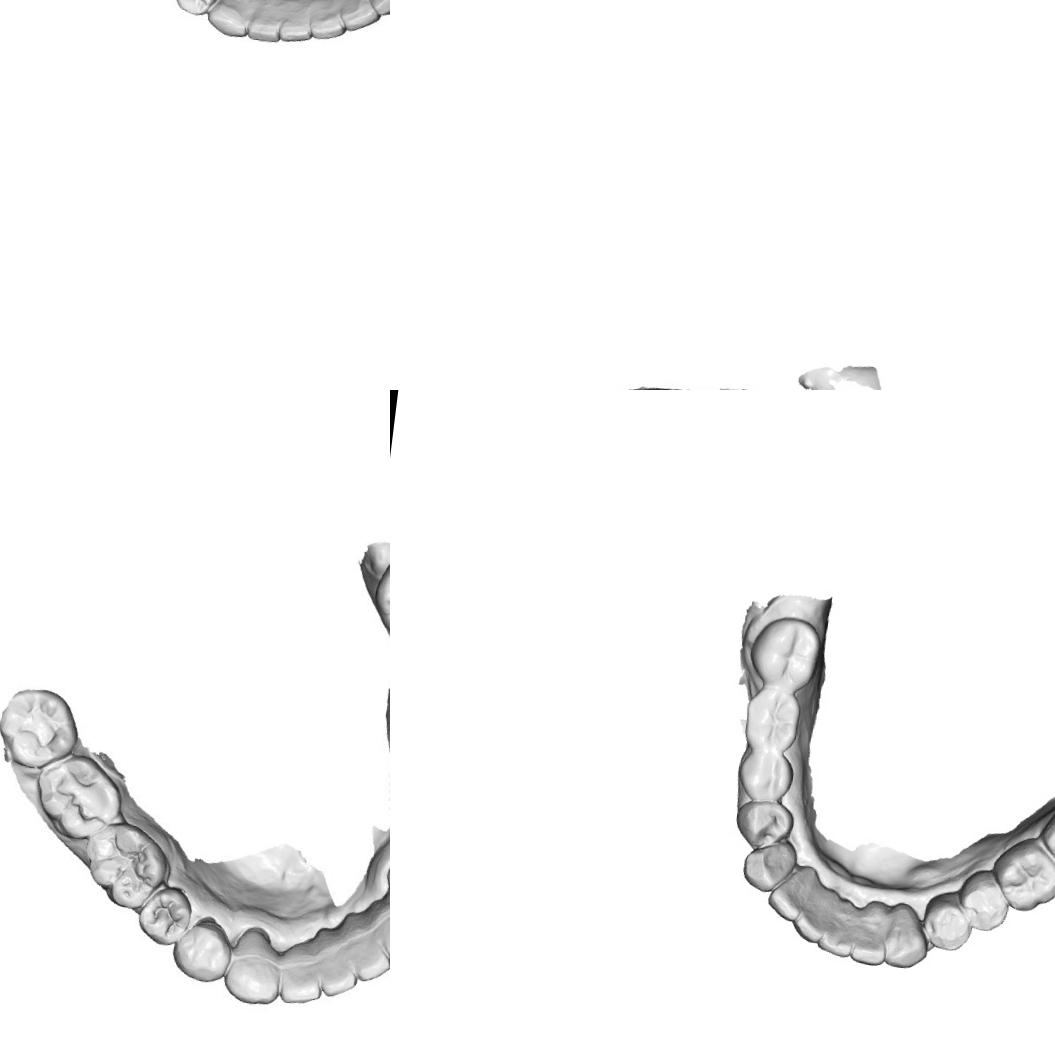canine: (221, 926, 286, 1008), (738, 836, 800, 896), (878, 905, 932, 972), (202, 0, 264, 41)
incisor: (274, 948, 326, 1008), (763, 868, 812, 926), (311, 946, 361, 1000), (346, 933, 390, 985), (788, 900, 831, 948), (274, 0, 317, 47), (846, 926, 890, 969), (244, 0, 285, 46), (814, 918, 856, 962), (309, 0, 350, 44), (338, 0, 382, 35), (375, 912, 390, 964)
molar: (80, 816, 178, 914), (33, 747, 122, 845), (0, 680, 82, 774), (744, 611, 825, 694), (988, 836, 1055, 916), (738, 686, 805, 754), (369, 543, 390, 648), (1035, 796, 1055, 880)
premolar: (170, 912, 232, 986), (953, 866, 1015, 937), (132, 882, 194, 950), (916, 890, 976, 956), (734, 745, 797, 804), (732, 798, 797, 855), (165, 0, 224, 20)
